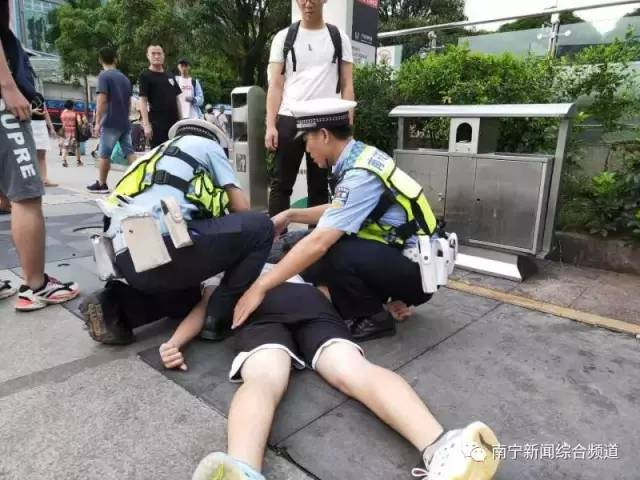fall: (179, 203, 516, 480)
